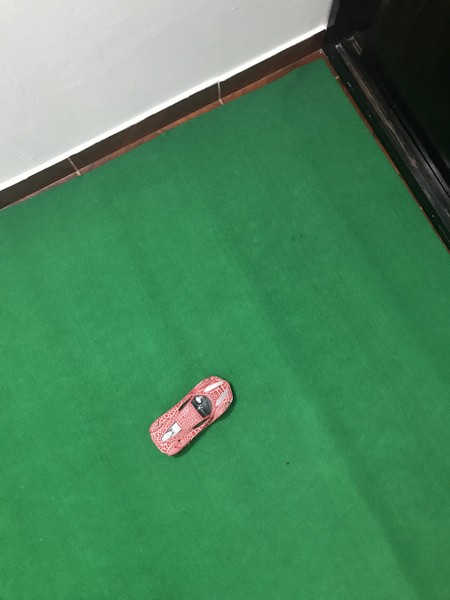RC: (147, 374, 235, 456)
